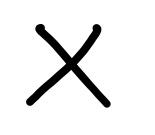mult: (25, 24, 111, 108)
